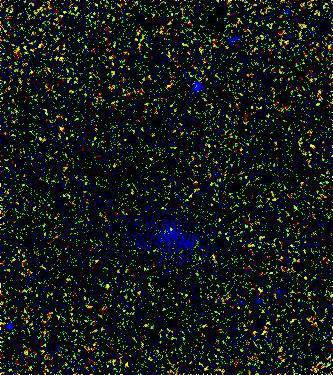star: (158, 213, 188, 243)
